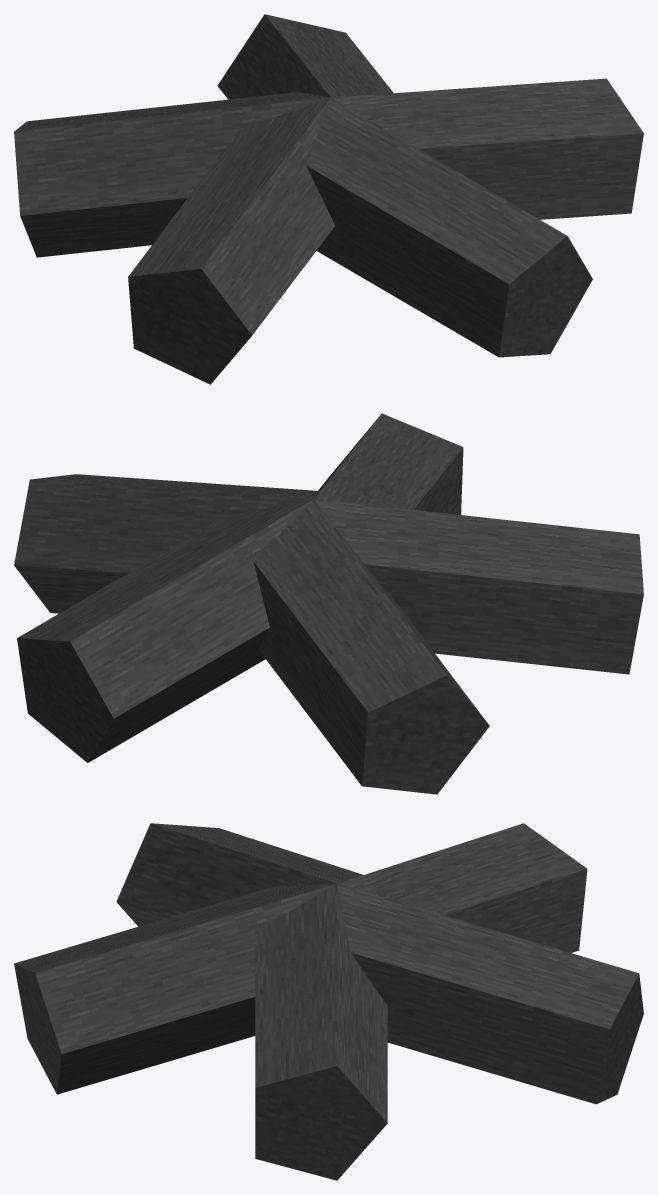
Rendered from campfire.glb.
The picture shows the model from 3 angles, top to bottom: view 1: azimuth 30°, elevation 25°; view 2: azimuth 150°, elevation 25°; view 3: azimuth 270°, elevation 25°; orthographic projection. The views are drawn at different scales.
Parts seen in each view (by area): view 1: FireWood; view 2: FireWood; view 3: FireWood.
Boxes of the visible parts, bbox=[...] form: FireWood: bbox=[14, 14, 643, 384]; FireWood: bbox=[14, 413, 643, 794]; FireWood: bbox=[14, 823, 643, 1180].
Bounding box in the file's own units: 1.27 × 0.3902 × 1.29.
1 material, 1 textured.
